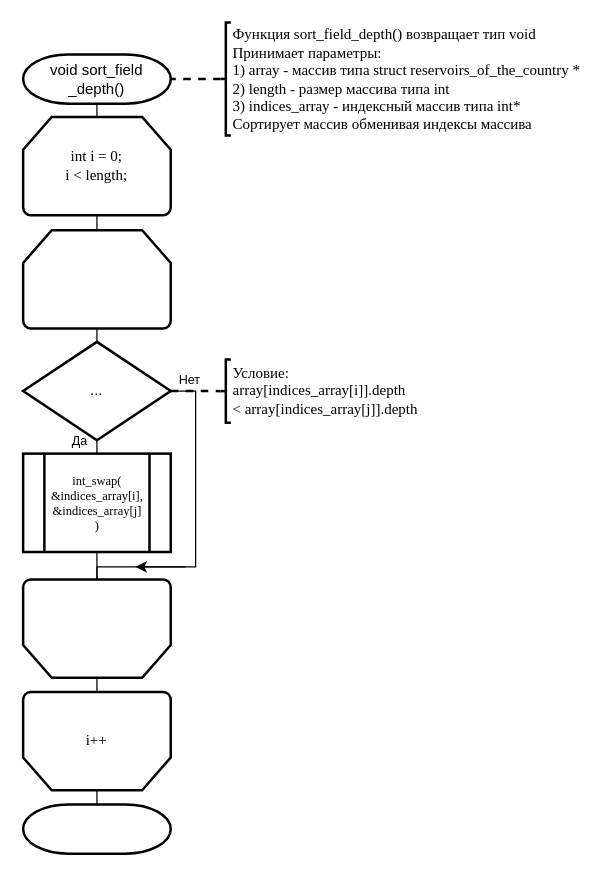
The diagram is 603 pixels wide and 876 high, and some of its shapes have lost their labels. Here are the shapes that lost their labels. From the top down, the box of each, then its label:
(21, 228, 171, 329): int j = 0; j < length;
(21, 578, 171, 678): j++
(21, 802, 171, 854): Конец
